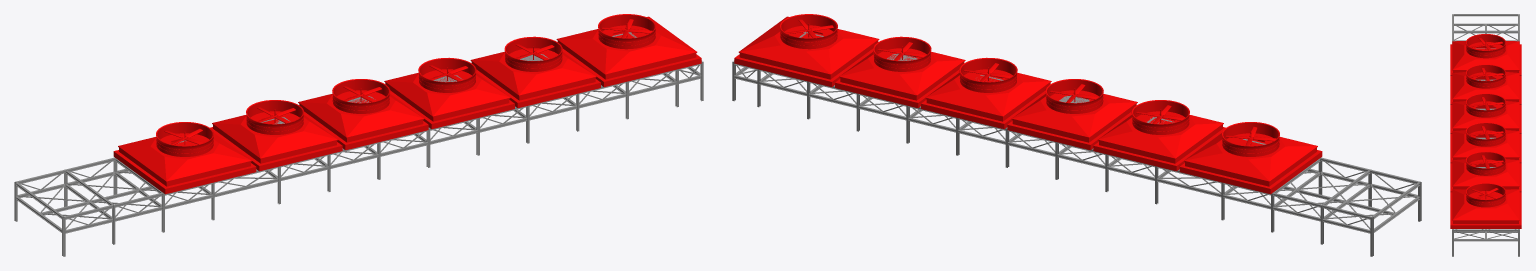
Rendered from Environ_Cooler.FBX.
3 views of the same model, side by side, from view 1: azimuth 30°, elevation 25°; view 2: azimuth 150°, elevation 25°; view 3: azimuth 270°, elevation 25° (orthographic). The views are drawn at different scales.
Parts seen in each view (by area): view 1: Pipe_rack, Object022, Object001, Object014, Object019, Object020, Object021; view 2: Pipe_rack, Object022, Object001, Object014, Object020, Object021, Object019; view 3: Object022, Object021, Object001, Object020, Object014, Object019, Pipe_rack.
Part boxes in pixels (bbox=[...]): Pipe_rack: bbox=[14, 32, 703, 256]; Object022: bbox=[556, 14, 701, 87]; Object001: bbox=[113, 122, 256, 194]; Object014: bbox=[210, 100, 342, 171]; Object019: bbox=[298, 79, 428, 150]; Object020: bbox=[384, 57, 514, 129]; Object021: bbox=[470, 36, 600, 108]; Pipe_rack: bbox=[732, 31, 1421, 256]; Object022: bbox=[734, 14, 879, 87]; Object001: bbox=[1179, 122, 1322, 194]; Object014: bbox=[1093, 100, 1225, 171]; Object020: bbox=[921, 57, 1051, 129]; Object021: bbox=[835, 36, 965, 107]; Object019: bbox=[1007, 79, 1137, 150]; Object022: bbox=[1450, 183, 1521, 228]; Object021: bbox=[1450, 151, 1521, 192]; Object001: bbox=[1450, 34, 1521, 75]; Object020: bbox=[1450, 122, 1521, 163]; Object014: bbox=[1450, 64, 1521, 104]; Object019: bbox=[1450, 93, 1521, 133]; Pipe_rack: bbox=[1452, 14, 1519, 256].
Size of the model in its own units: 77263 by 8249 by 10803.
